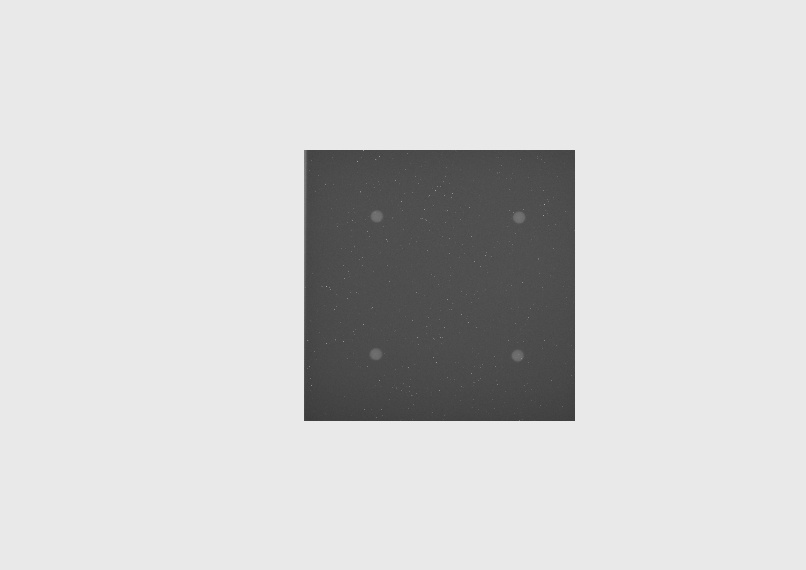bubble: (512, 210, 526, 223), (370, 347, 382, 360), (511, 349, 524, 361), (371, 210, 383, 222)
